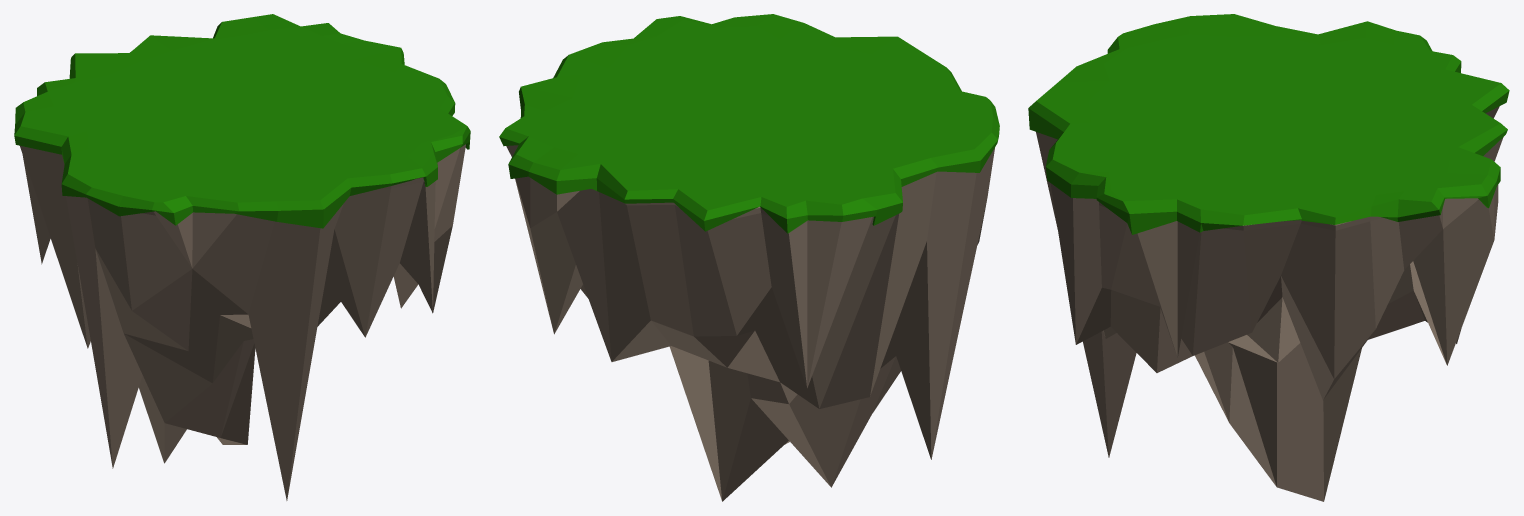
The model's file is Floating_island.fbx.
The picture shows the model from 3 angles, left to right: view 1: azimuth 30°, elevation 25°; view 2: azimuth 150°, elevation 25°; view 3: azimuth 270°, elevation 25°; orthographic projection. The views are drawn at different scales.
Parts seen in each view (by area): view 1: Plane.001; view 2: Plane.001; view 3: Plane.001.
Boxes of the visible parts, x1=… form: Plane.001: x1=14, y1=14, x2=470, y2=500; Plane.001: x1=499, y1=14, x2=999, y2=501; Plane.001: x1=1028, y1=14, x2=1509, y2=501.
Bounding box in the file's own units: 98.13 × 84.47 × 95.97.
